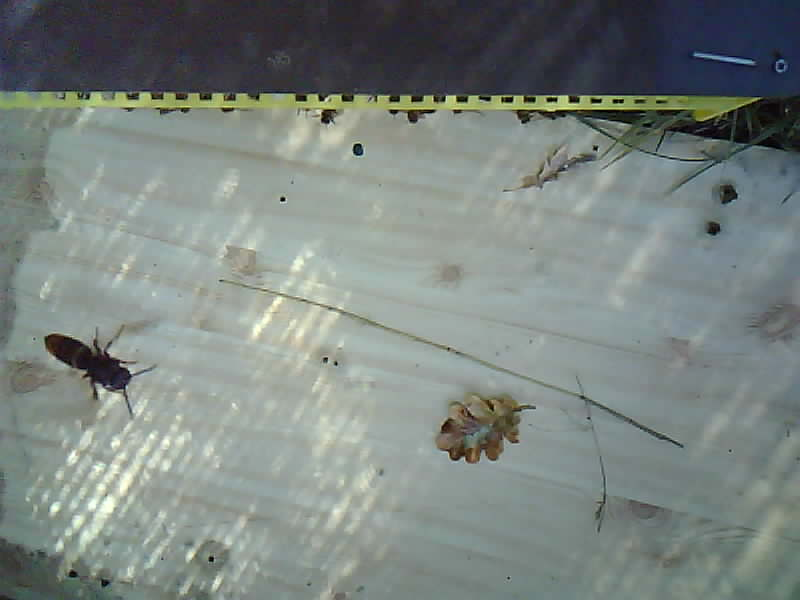hornet: (41, 328, 133, 392)
